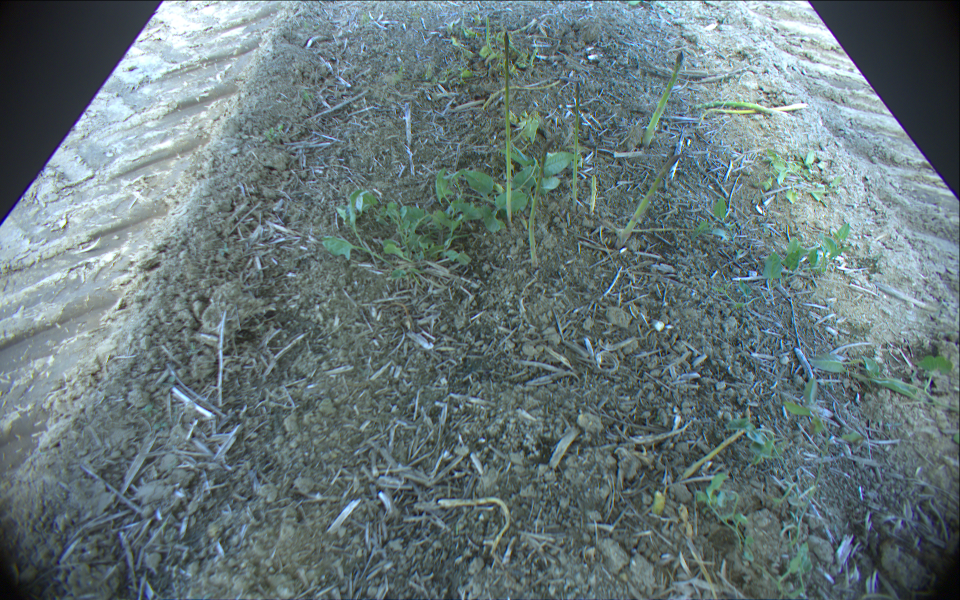aspa: (615, 154, 683, 248), (642, 51, 683, 147), (528, 135, 548, 268), (504, 29, 513, 224), (695, 100, 791, 116), (572, 82, 581, 205), (589, 174, 598, 214)
